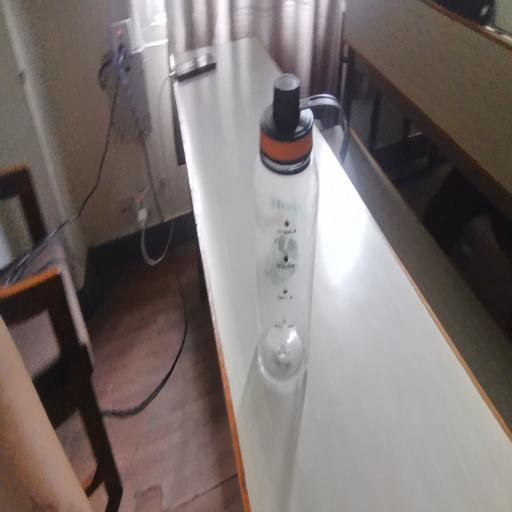Bottle: (260, 94, 346, 411)
